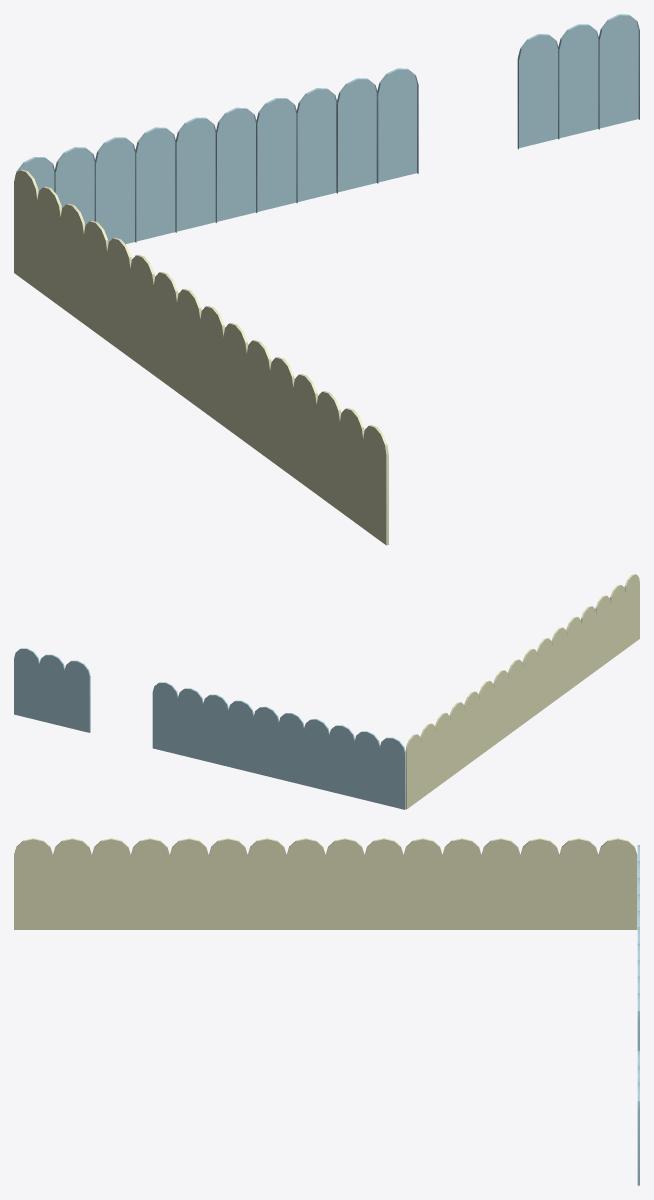
Rendered from fence_floor.fbx.
3 views of the same model, one above another, from view 1: azimuth 30°, elevation 25°; view 2: azimuth 150°, elevation 25°; view 3: azimuth 270°, elevation 25° (orthographic). The views are drawn at different scales.
Parts seen in each view (by area): view 1: Cube.112, Cube.037, Cube.170; view 2: Cube.037, Cube.112, Cube.170; view 3: Cube.112, Cube.037.
Boxes of the visible parts, x1,y1,x2,y2 form: Cube.112: (14, 169, 388, 545); Cube.037: (14, 68, 418, 244); Cube.170: (517, 14, 639, 149); Cube.037: (152, 682, 405, 809); Cube.112: (405, 574, 639, 809); Cube.170: (14, 648, 90, 732); Cube.112: (14, 838, 637, 929); Cube.037: (637, 845, 639, 1050).
Size of the model in its own units: 1254 by 210 by 1297.
